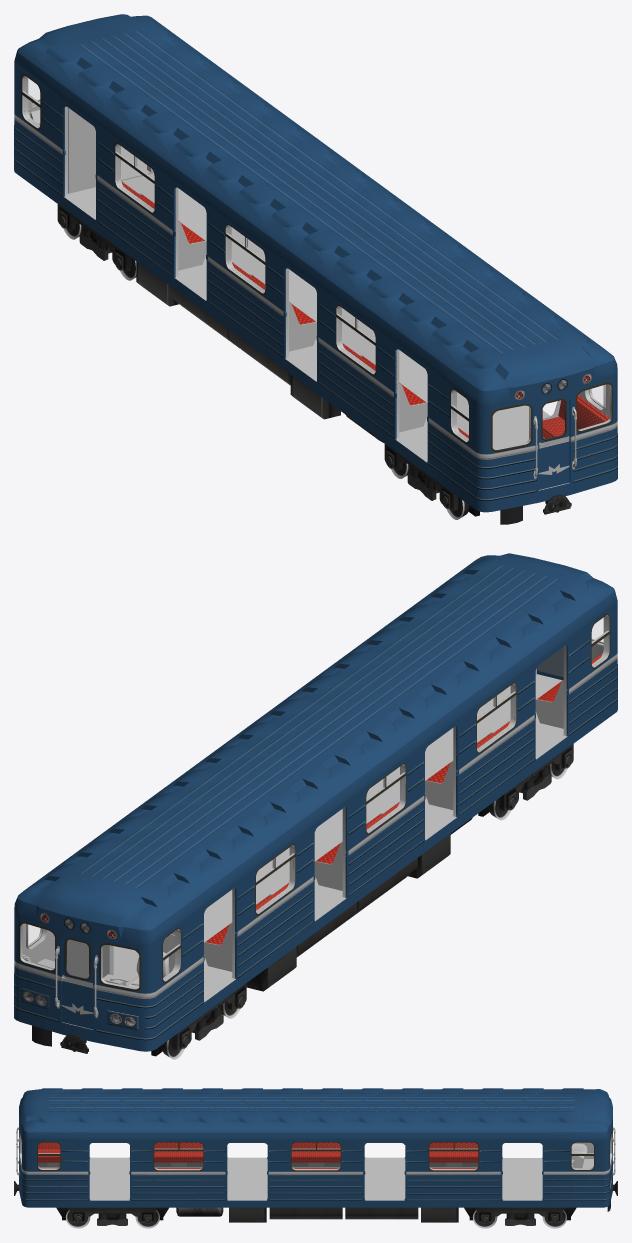
Rendered from SubwayTrain03_Body1.FBX.
3 views of the same model, one above another, from view 1: azimuth 30°, elevation 25°; view 2: azimuth 150°, elevation 25°; view 3: azimuth 270°, elevation 25° (orthographic). The views are drawn at different scales.
Visible parts, largest first — view 1: SubwayTrain03_Roof, SubwayTrain03_Body1, SubwayTrain03_Inter, SubwayTrain03_Wheels, SubwayTrain03_InterBench, SubwayTrain_Bench01b, SubwayTrain03_InterEnter, SubwayTrain03_DoorF1; view 2: SubwayTrain03_Roof, SubwayTrain03_Body1, SubwayTrain03_Inter, SubwayTrain03_Wheels, SubwayTrain03_InterBench, SubwayTrain03_DoorF2, SubwayTrain_Bench01b, SubwayTrain03_InterEnter, SubwayTrain03_Inter2; view 3: SubwayTrain03_Body1, SubwayTrain03_Roof, SubwayTrain03_Inter, SubwayTrain03_Wheels, SubwayTrain_Bench01b, SubwayTrain03_Inter2.
Boxes of the visible parts, bbox=[...] form: SubwayTrain03_Roof: bbox=[17, 14, 614, 391]; SubwayTrain03_Body1: bbox=[14, 50, 617, 512]; SubwayTrain03_Inter: bbox=[22, 76, 611, 490]; SubwayTrain03_Wheels: bbox=[57, 204, 571, 524]; SubwayTrain03_InterBench: bbox=[138, 193, 561, 432]; SubwayTrain_Bench01b: bbox=[121, 181, 609, 438]; SubwayTrain03_InterEnter: bbox=[68, 107, 153, 193]; SubwayTrain03_DoorF1: bbox=[538, 396, 569, 489]; SubwayTrain03_Roof: bbox=[17, 553, 614, 930]; SubwayTrain03_Body1: bbox=[14, 590, 617, 1051]; SubwayTrain03_Inter: bbox=[20, 615, 609, 1029]; SubwayTrain03_Wheels: bbox=[32, 744, 573, 1059]; SubwayTrain03_InterBench: bbox=[204, 680, 563, 971]; SubwayTrain03_DoorF2: bbox=[61, 935, 93, 1029]; SubwayTrain_Bench01b: bbox=[205, 653, 602, 944]; SubwayTrain03_InterEnter: bbox=[66, 931, 174, 985]; SubwayTrain03_Inter2: bbox=[22, 924, 174, 1017]; SubwayTrain03_Body1: bbox=[19, 1117, 612, 1207]; SubwayTrain03_Roof: bbox=[19, 1088, 612, 1132]; SubwayTrain03_Inter: bbox=[19, 1133, 612, 1200]; SubwayTrain03_Wheels: bbox=[14, 1181, 617, 1228]; SubwayTrain_Bench01b: bbox=[38, 1142, 478, 1168]; SubwayTrain03_Inter2: bbox=[16, 1127, 615, 1176].
Size of the model in its own units: 4082 by 4898 by 24396.
